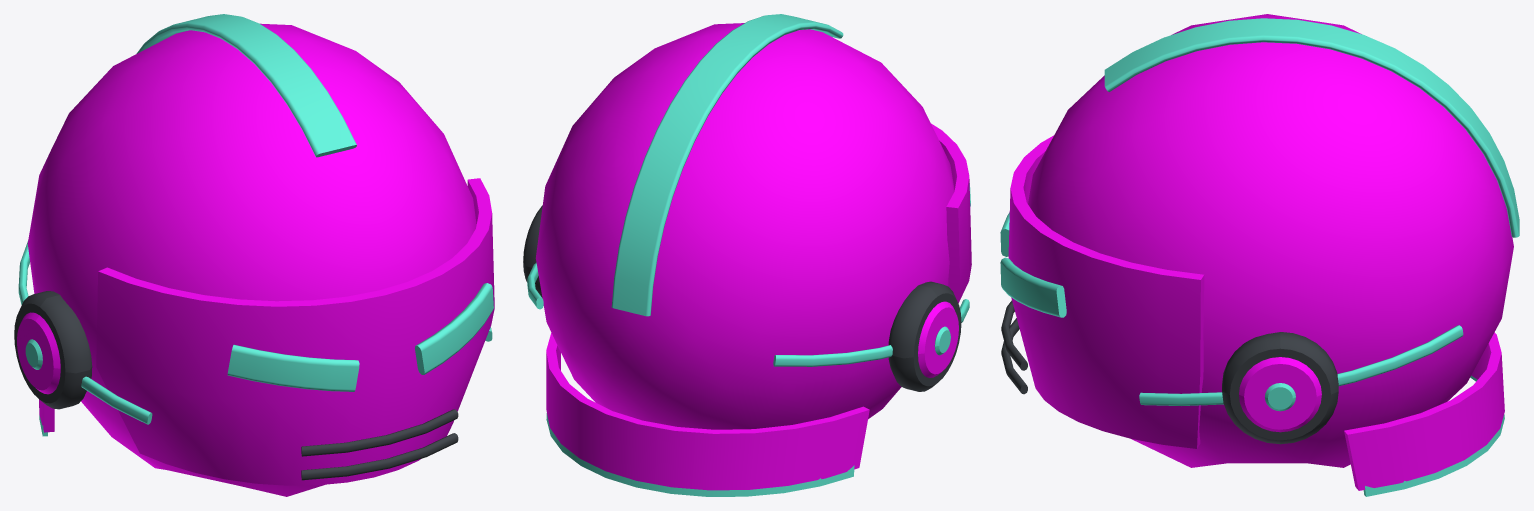
The model's file is porte_armure5_casque.glb.
3 renders of one model, left to right at view 1: azimuth 30°, elevation 25°; view 2: azimuth 150°, elevation 25°; view 3: azimuth 270°, elevation 25°, orthographic. The views are drawn at different scales.
Visible parts, largest first — view 1: tete__casque_teinte.002, tete__casque_nano_lueur.002, tete__casque_teinte_sombre.002; view 2: tete__casque_teinte.002, tete__casque_nano_lueur.002, tete__casque_teinte_sombre.002; view 3: tete__casque_teinte.002, tete__casque_nano_lueur.002, tete__casque_teinte_sombre.002.
Boxes of the visible parts, x1=… form: tete__casque_teinte.002: x1=17, y1=23, x2=494, y2=496; tete__casque_nano_lueur.002: x1=18, y1=14, x2=493, y2=436; tete__casque_teinte_sombre.002: x1=14, y1=291, x2=458, y2=480; tete__casque_teinte.002: x1=535, y1=23, x2=971, y2=490; tete__casque_nano_lueur.002: x1=527, y1=14, x2=970, y2=496; tete__casque_teinte_sombre.002: x1=523, y1=205, x2=961, y2=391; tete__casque_teinte.002: x1=1008, y1=14, x2=1513, y2=490; tete__casque_nano_lueur.002: x1=1000, y1=18, x2=1519, y2=496; tete__casque_teinte_sombre.002: x1=1001, y1=300, x2=1338, y2=444.
Size of the model in its own units: 0.382 by 0.3418 by 0.4.
